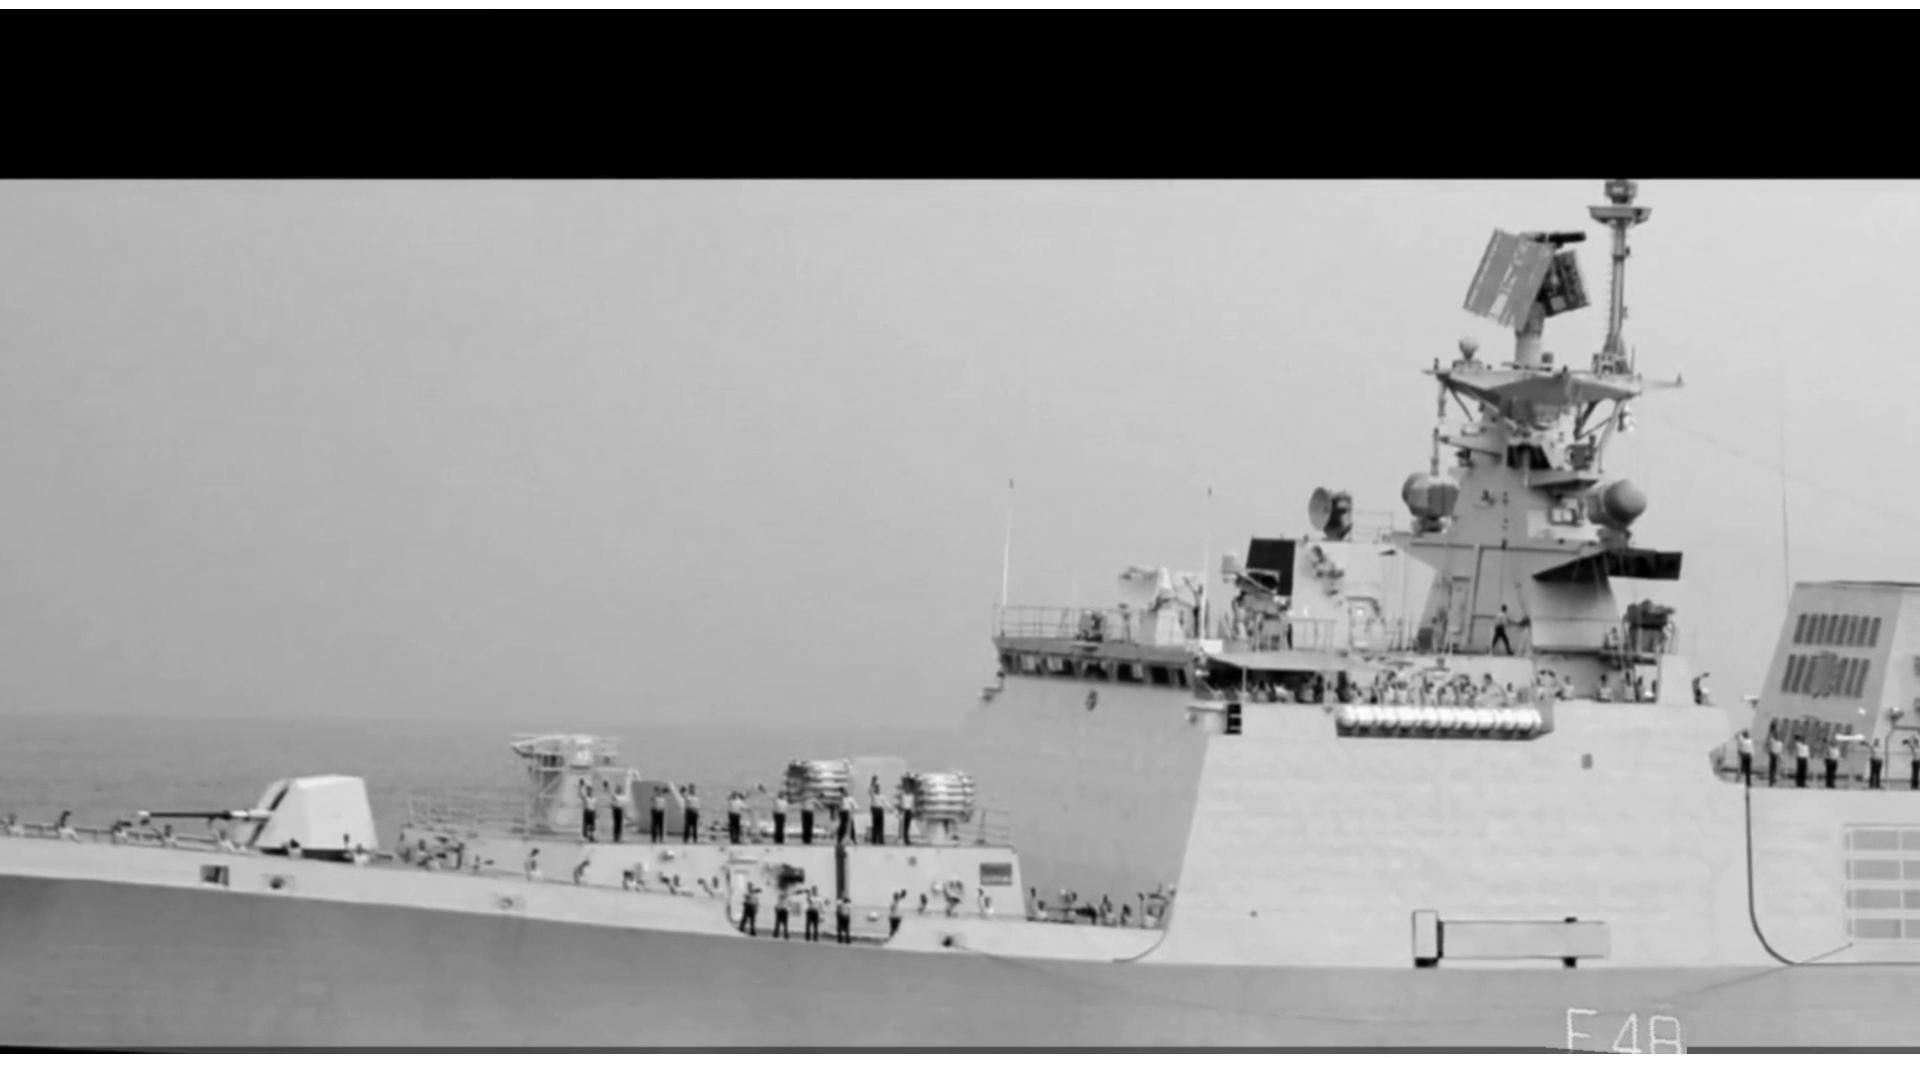OCR: (1528, 992, 1687, 1054)
